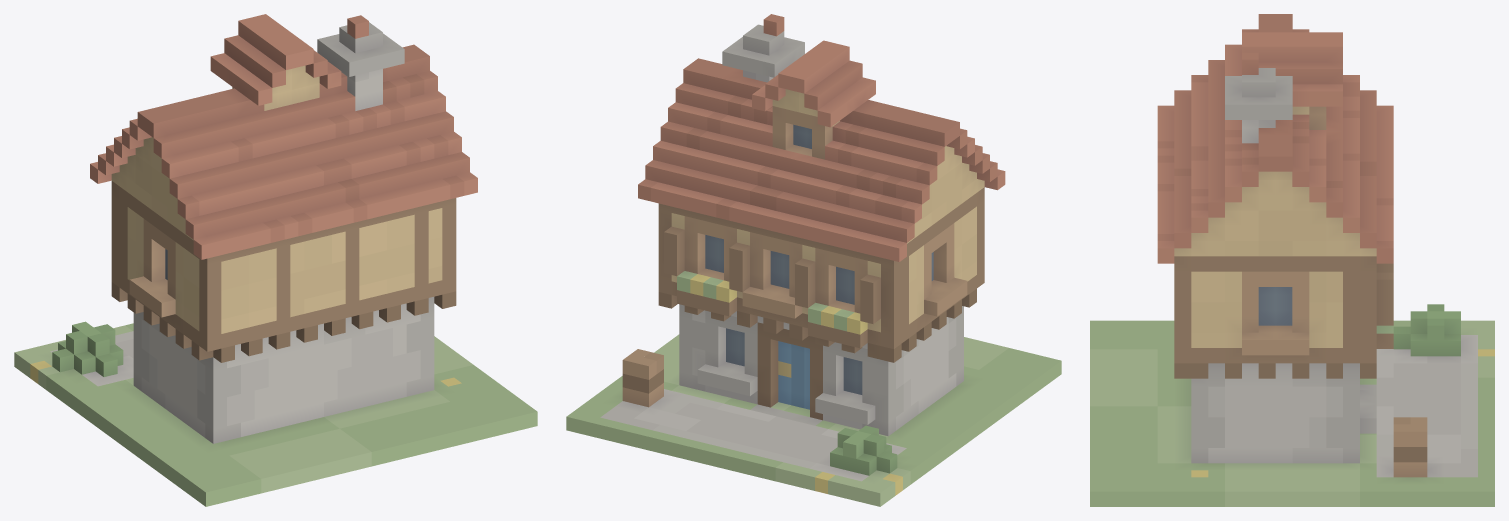
File: house_citizens.v0.glb
3 views of the same model, side by side, from view 1: azimuth 30°, elevation 25°; view 2: azimuth 150°, elevation 25°; view 3: azimuth 270°, elevation 25° (orthographic). The views are drawn at different scales.
Visible parts, largest first — view 1: house_citizens; view 2: house_citizens; view 3: house_citizens.
Part boxes in pixels (x1,y1,x2,y2): house_citizens: [14, 14, 537, 506]; house_citizens: [566, 14, 1061, 506]; house_citizens: [1090, 14, 1494, 506].
Size of the model in its own units: 3 by 3.25 by 3.
